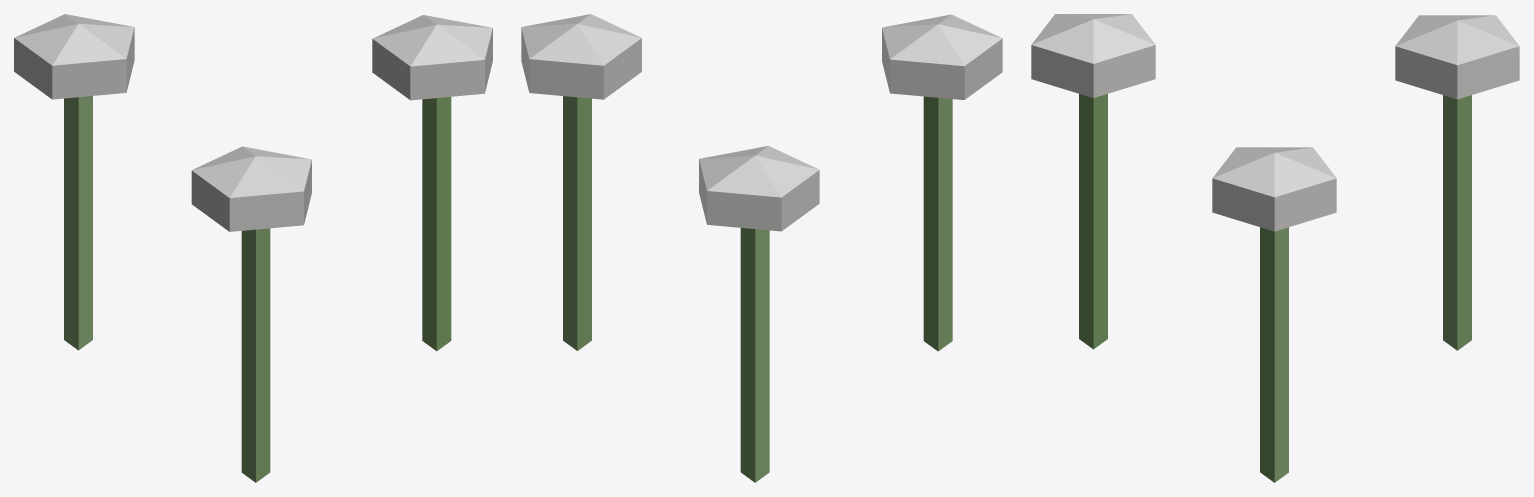
The model's file is flower_w.glb.
The picture shows the model from 3 angles, left to right: view 1: azimuth 30°, elevation 25°; view 2: azimuth 150°, elevation 25°; view 3: azimuth 270°, elevation 25°; orthographic projection.
Parts seen in each view (by area): view 1: flower_w2; view 2: flower_w2; view 3: flower_w2.
Part boxes in pixels (<box>): flower_w2: <box>14,14,492,482</box>; flower_w2: <box>521,14,1002,482</box>; flower_w2: <box>1031,14,1519,482</box>.
Bounding box in the file's own units: 0.5172 × 0.425 × 0.582.
